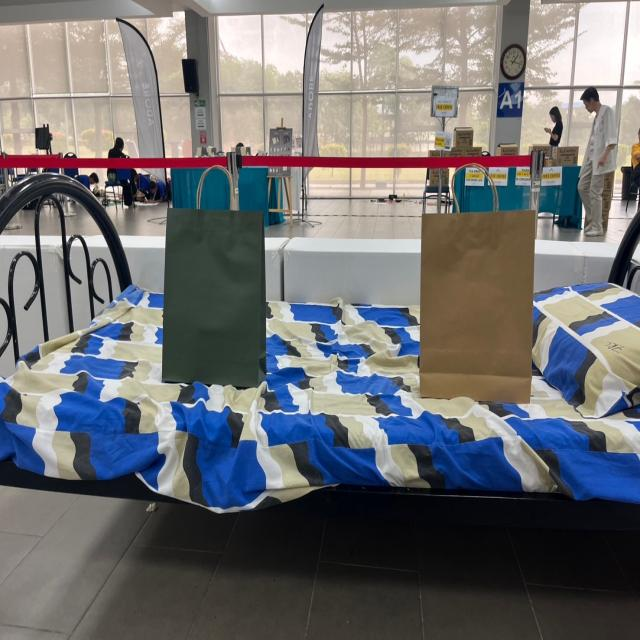bag: (431, 155, 532, 389), (171, 154, 262, 396)
